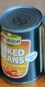beans: (1, 5, 43, 86)
